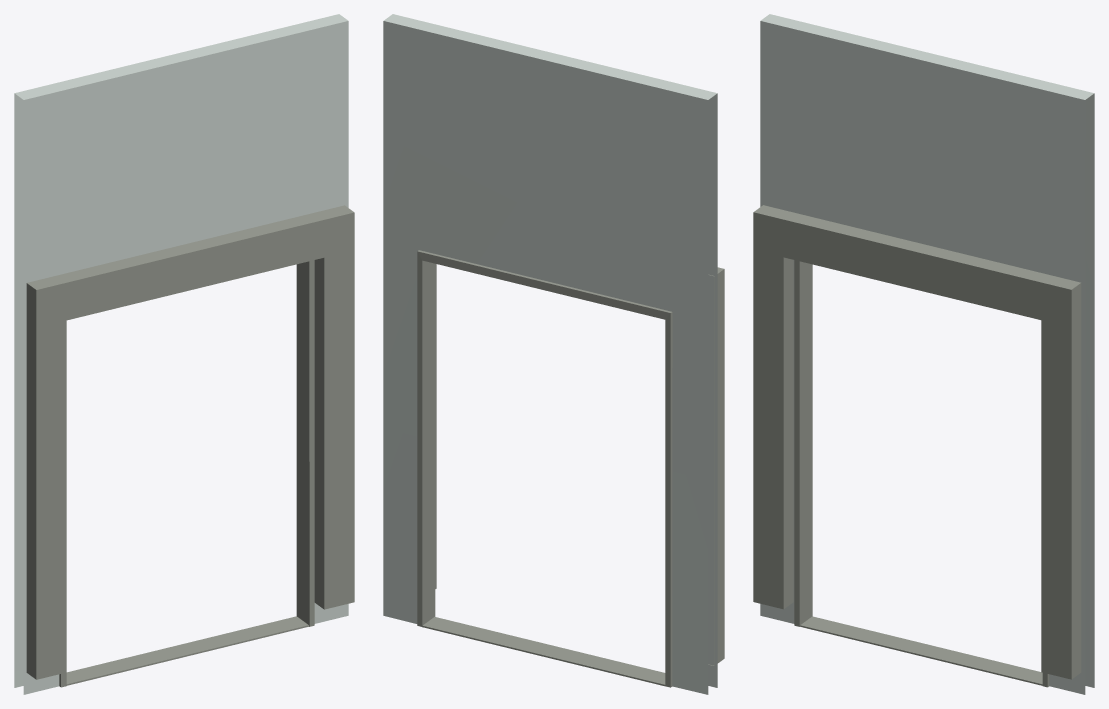
File: SM_Outer_DoorFrame_B1_400.fbx
3 views of the same model, side by side, from view 1: azimuth 30°, elevation 25°; view 2: azimuth 150°, elevation 25°; view 3: azimuth 330°, elevation 25° (orthographic).
Visible parts, largest first — view 1: SM_Outer_DoorFrame_B1_400; view 2: SM_Outer_DoorFrame_B1_400; view 3: SM_Outer_DoorFrame_B1_400.
Part boxes in pixels (box(x1,y1,x2,y2)): SM_Outer_DoorFrame_B1_400: box(14, 14, 354, 694); SM_Outer_DoorFrame_B1_400: box(383, 14, 724, 694); SM_Outer_DoorFrame_B1_400: box(753, 14, 1094, 694).
Bounding box in the file's own units: 400 × 700 × 45.01.
